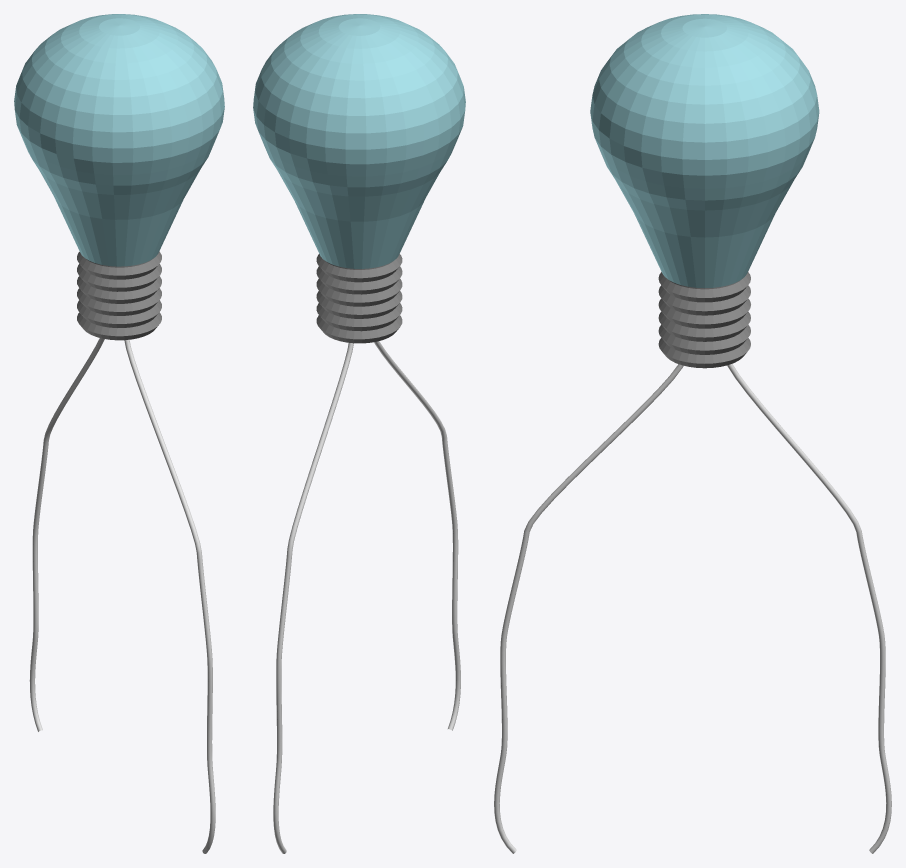
The model's file is offbulb2.gltf.
3 renders of one model, left to right at view 1: azimuth 30°, elevation 25°; view 2: azimuth 150°, elevation 25°; view 3: azimuth 270°, elevation 25°, orthographic. The views are drawn at different scales.
Parts seen in each view (by area): view 1: Sphere, BezierCurve.001, BezierCurve; view 2: Sphere, BezierCurve, BezierCurve.001; view 3: Sphere, BezierCurve.001, BezierCurve.
Boxes of the visible parts, left/top/right/bottom form: Sphere: left=14, top=14, right=224, bottom=340; BezierCurve.001: left=124, top=339, right=215, bottom=853; BezierCurve: left=29, top=338, right=104, bottom=731; Sphere: left=253, top=14, right=465, bottom=343; BezierCurve: left=273, top=343, right=353, bottom=853; BezierCurve.001: left=374, top=341, right=460, bottom=730; Sphere: left=590, top=14, right=819, bottom=368; BezierCurve.001: left=494, top=364, right=683, bottom=853; BezierCurve: left=727, top=363, right=891, bottom=853.
Bounding box in the file's own units: 5.58 × 22.24 × 9.68.
